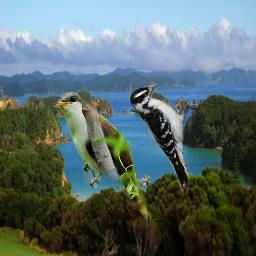Cuckoo: (49, 92, 157, 222)
Woodpecker: (129, 84, 197, 191)
